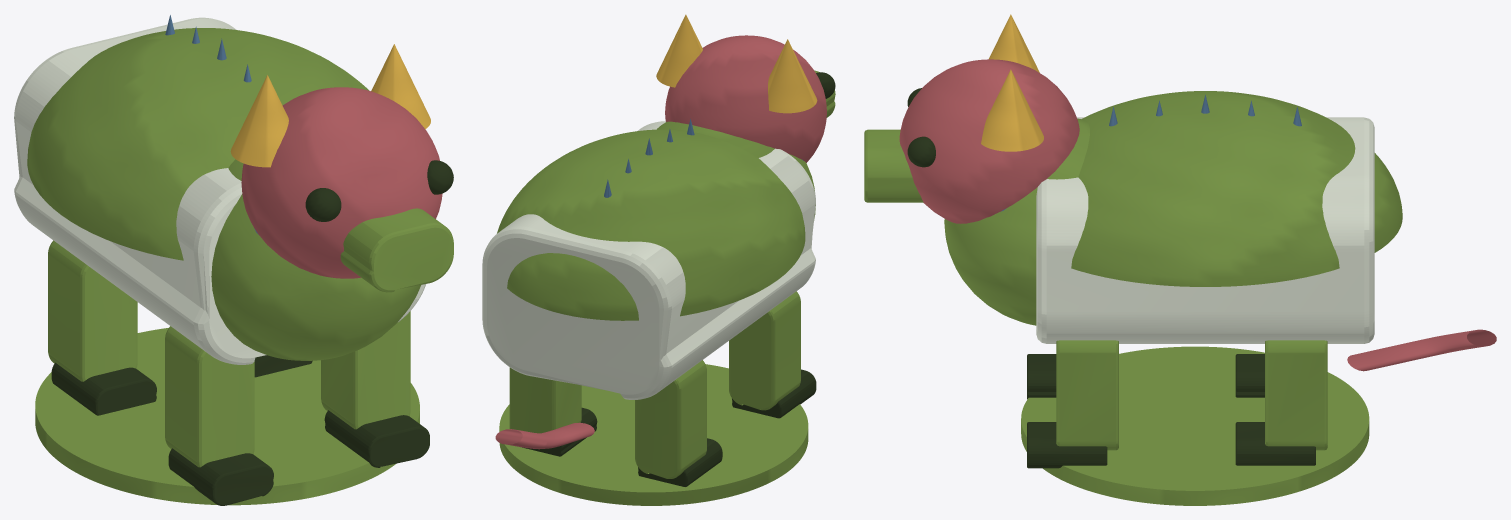
Rendered from 0790_伪装大师图鉴_银木果灯草.glb.
3 views of the same model, side by side, from view 1: azimuth 30°, elevation 25°; view 2: azimuth 150°, elevation 25°; view 3: azimuth 270°, elevation 25° (orthographic). The views are drawn at different scales.
Parts seen in each view (by area): view 1: card_0790; view 2: card_0790; view 3: card_0790.
Part boxes in pixels (<box>): card_0790: <box>14,15,453,505</box>; card_0790: <box>482,14,835,505</box>; card_0790: <box>864,14,1496,505</box>.
Size of the model in its own units: 0.7893 by 1 by 1.46.
